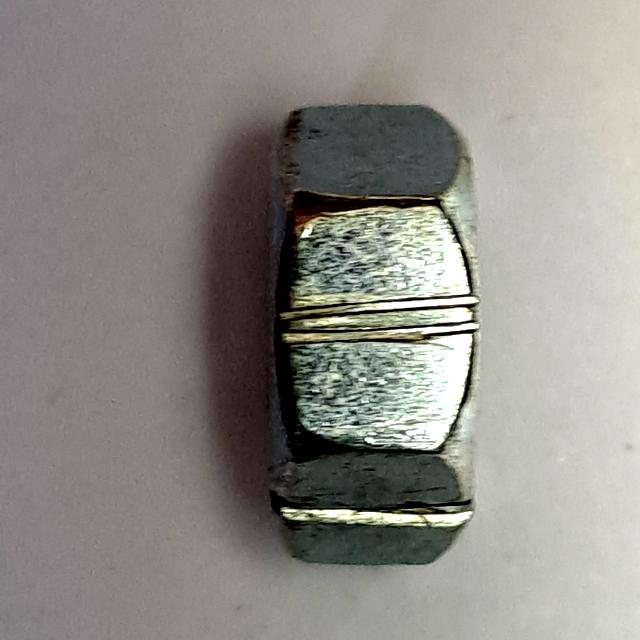Side_Scratches: (230, 85, 502, 593)
